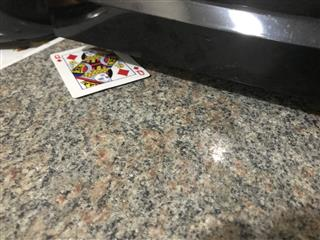QueenOfDiamonds: (49, 45, 151, 98)
